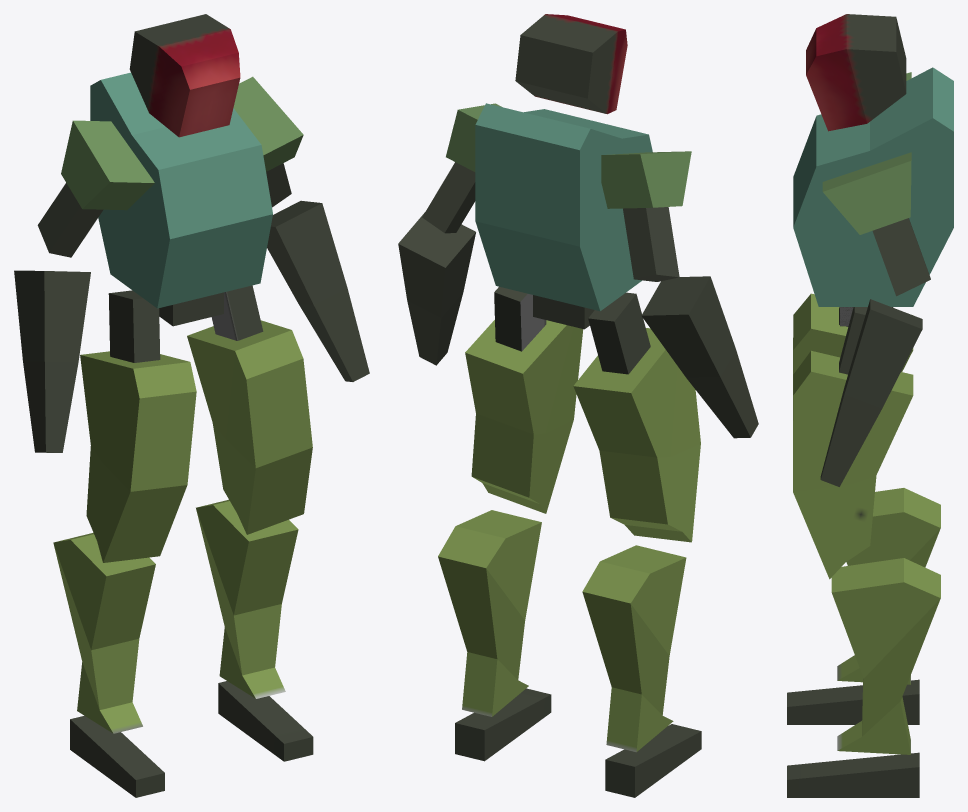
File: FracturedEnemy2.fbx
3 views of the same model, side by side, from view 1: azimuth 30°, elevation 25°; view 2: azimuth 150°, elevation 25°; view 3: azimuth 270°, elevation 25° (orthographic).
Parts seen in each view (by area): view 1: Cube.035, Cube.042, Cube.001, Cube.043, Cube.036, Cube.038, Cube.047, Cube.041, Cube.045, Cube.044, Cube.037, Cube.039 (+2 smaller); view 2: Cube.035, Cube.042, Cube.001, Cube.043, Cube.036, Cube.047, Cube.038, Cube.041, Cube.045, Cube.044, Cube.037, Cube.046 (+2 smaller); view 3: Cube.035, Cube.001, Cube.036, Cube.038, Cube.041, Cube.043, Cube.037, Cube.039, Cube.044, Cube.042, Cube.040.
Part boxes in pixels (x1=…): Cube.035: x1=90, y1=72, x2=272, y2=326; Cube.042: x1=80, y1=290, x2=196, y2=562; Cube.001: x1=187, y1=285, x2=312, y2=534; Cube.043: x1=53, y1=532, x2=155, y2=733; Cube.036: x1=196, y1=499, x2=298, y2=698; Cube.038: x1=129, y1=14, x2=240, y2=137; Cube.047: x1=14, y1=270, x2=90, y2=452; Cube.041: x1=267, y1=200, x2=369, y2=381; Cube.045: x1=61, y1=120, x2=154, y2=210; Cube.044: x1=70, y1=715, x2=164, y2=797; Cube.037: x1=218, y1=681, x2=313, y2=761; Cube.039: x1=233, y1=76, x2=303, y2=171; Cube.035: x1=475, y1=103, x2=652, y2=329; Cube.042: x1=573, y1=292, x2=700, y2=542; Cube.001: x1=465, y1=286, x2=583, y2=513; Cube.043: x1=582, y1=545, x2=686, y2=752; Cube.036: x1=438, y1=510, x2=541, y2=716; Cube.047: x1=641, y1=276, x2=758, y2=438; Cube.038: x1=515, y1=14, x2=627, y2=114; Cube.041: x1=398, y1=212, x2=475, y2=365; Cube.045: x1=601, y1=151, x2=691, y2=208; Cube.044: x1=605, y1=724, x2=701, y2=797; Cube.037: x1=455, y1=688, x2=551, y2=761; Cube.046: x1=623, y1=207, x2=679, y2=281; Cube.035: x1=793, y1=67, x2=953, y2=326; Cube.001: x1=793, y1=307, x2=913, y2=579; Cube.036: x1=831, y1=558, x2=940, y2=754; Cube.038: x1=806, y1=14, x2=906, y2=131; Cube.041: x1=820, y1=299, x2=922, y2=486; Cube.043: x1=837, y1=488, x2=940, y2=684; Cube.037: x1=787, y1=752, x2=919, y2=797; Cube.039: x1=822, y1=152, x2=911, y2=234; Cube.044: x1=787, y1=679, x2=919, y2=724; Cube.042: x1=793, y1=293, x2=913, y2=399; Cube.040: x1=872, y1=218, x2=930, y2=296.
Bounding box in the file's own units: 190 × 398 × 83.44.
